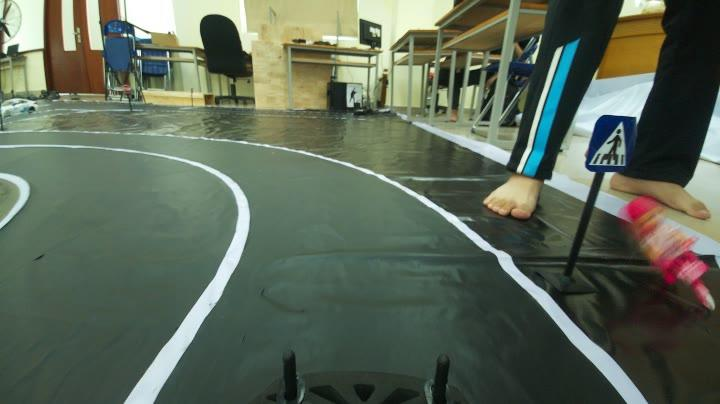crosswalk: (585, 107, 641, 173)
